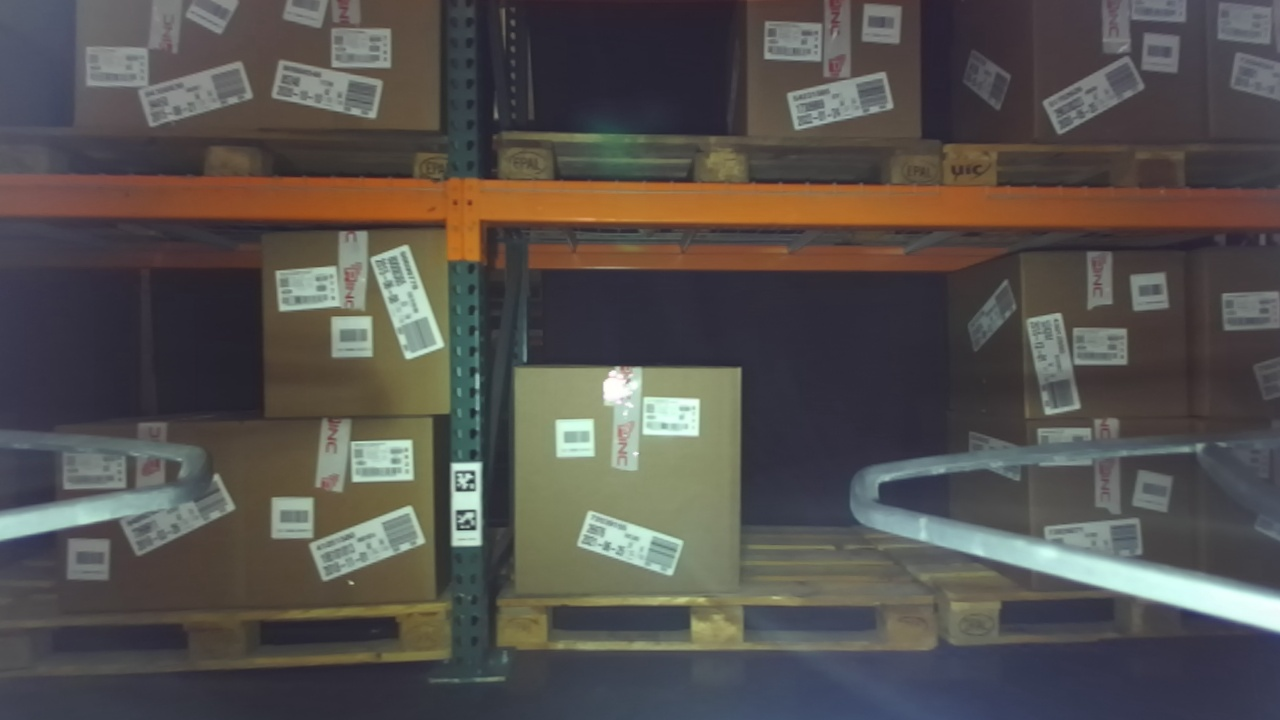box: (491, 341, 766, 615), (213, 385, 462, 614), (230, 214, 467, 438), (43, 391, 264, 630), (990, 233, 1218, 443), (1002, 401, 1209, 595), (63, 1, 290, 154), (713, 1, 938, 154), (1022, 1, 1230, 162), (249, 1, 465, 149), (1178, 204, 1280, 435)
